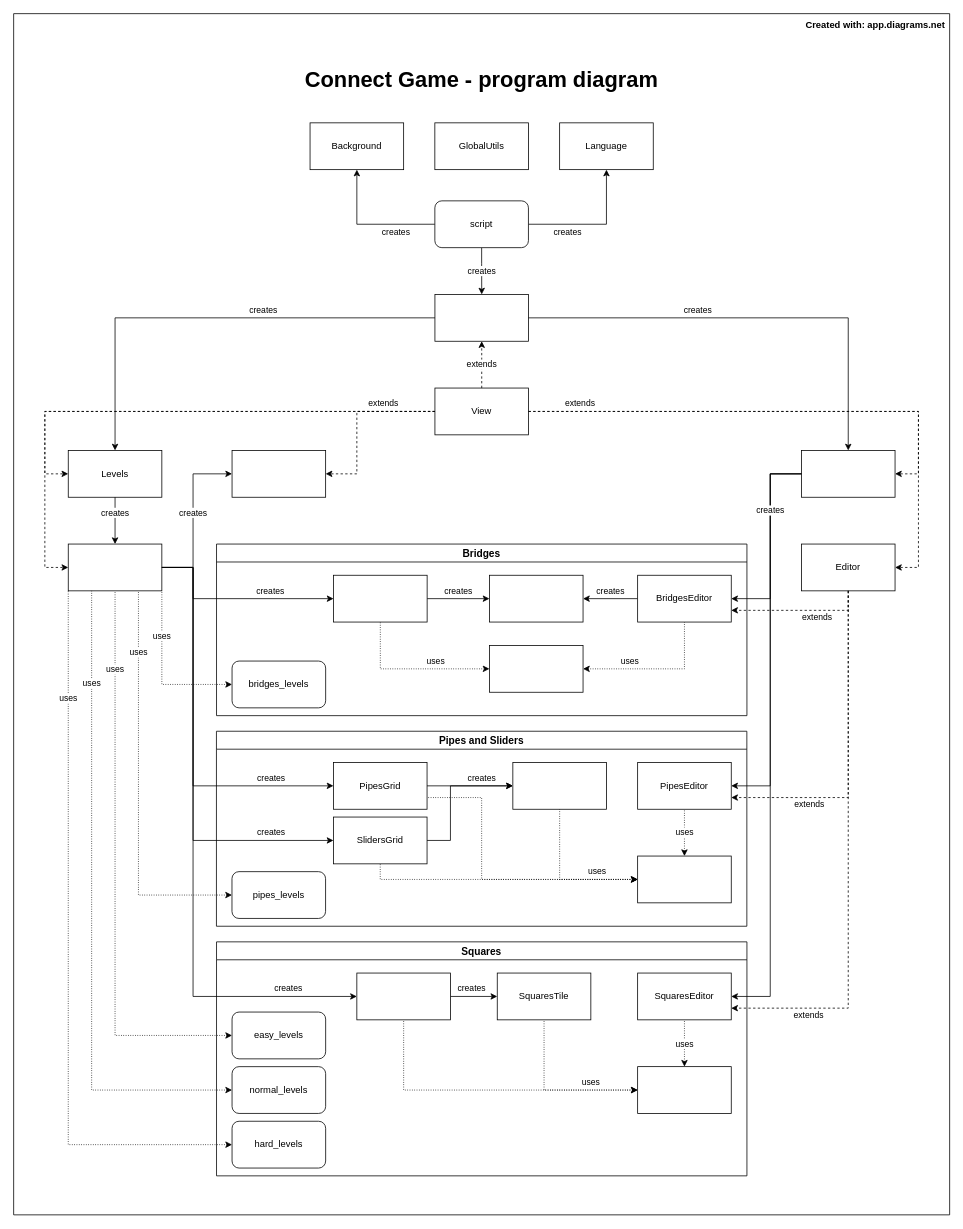
Some shapes in this 963 by 1229 pixel diagram are drawn without their labels. Here are the shapes that lost their labels. From the top down, the centre of each, then its label:
point 481,317: Menu
point 278,473: Rules
point 848,473: EditorMenu
point 114,567: Game
point 380,598: BridgesGrid
point 536,598: BridgesIsland
point 536,668: BridgesUtils
point 559,785: PipesTile
point 684,879: PipesUtils
point 403,996: SquaresGrid
point 684,1089: SquaresUtils
